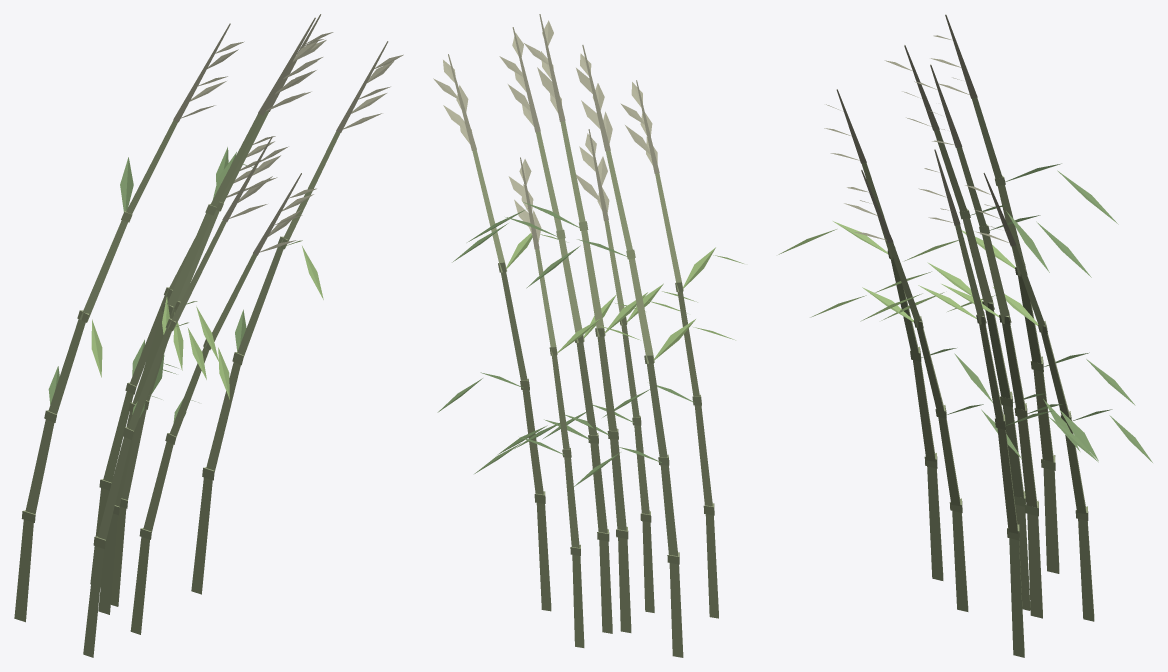
The model's file is shui.luweicong@subadult__bloom.glb.
The picture shows the model from 3 angles, left to right: view 1: azimuth 30°, elevation 25°; view 2: azimuth 150°, elevation 25°; view 3: azimuth 270°, elevation 25°; orthographic projection. The views are drawn at different scales.
Visible parts, largest first — view 1: shui.luweicong@subadult__bloom; view 2: shui.luweicong@subadult__bloom; view 3: shui.luweicong@subadult__bloom.
Part boxes in pixels (x1,y1,x2,y2): shui.luweicong@subadult__bloom: [14, 14, 403, 657]; shui.luweicong@subadult__bloom: [433, 14, 743, 657]; shui.luweicong@subadult__bloom: [778, 14, 1152, 657].
Size of the model in its own units: 1.1 by 1.92 by 1.02.
